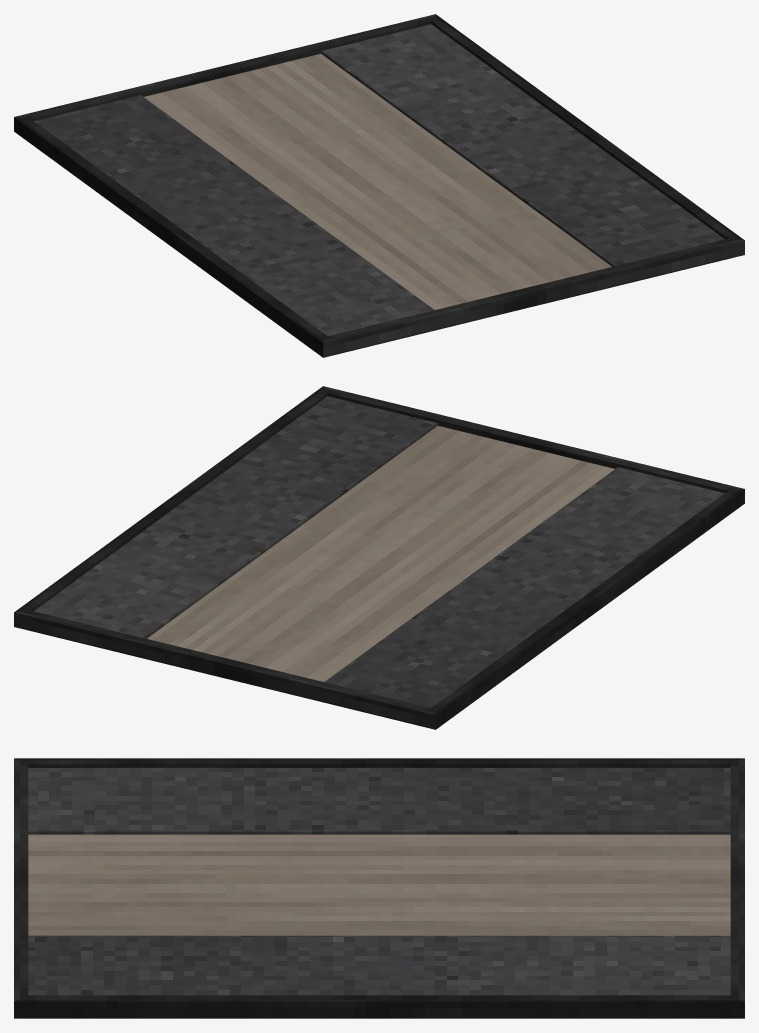
File: OlympicWeightliftingPlatform.glb
The picture shows the model from 3 angles, top to bottom: view 1: azimuth 30°, elevation 25°; view 2: azimuth 150°, elevation 25°; view 3: azimuth 270°, elevation 25°; orthographic projection. The views are drawn at different scales.
Parts seen in each view (by area): view 1: OlympicWeightliftingPlatform; view 2: OlympicWeightliftingPlatform; view 3: OlympicWeightliftingPlatform.
Part boxes in pixels (bbox=[...]): OlympicWeightliftingPlatform: bbox=[14, 14, 744, 357]; OlympicWeightliftingPlatform: bbox=[14, 386, 744, 729]; OlympicWeightliftingPlatform: bbox=[14, 758, 744, 1018].
Size of the model in its own units: 3.48 by 0.1148 by 4.42.
Materials: 1 (1 with a texture image).
